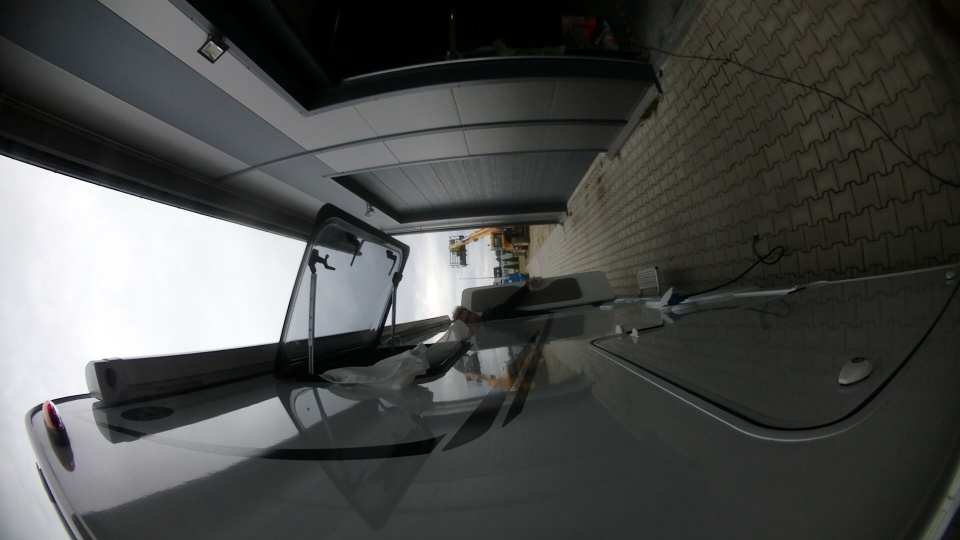door_back: (446, 268, 623, 327)
step_back: (628, 259, 666, 298)
window_back: (269, 197, 480, 393)
